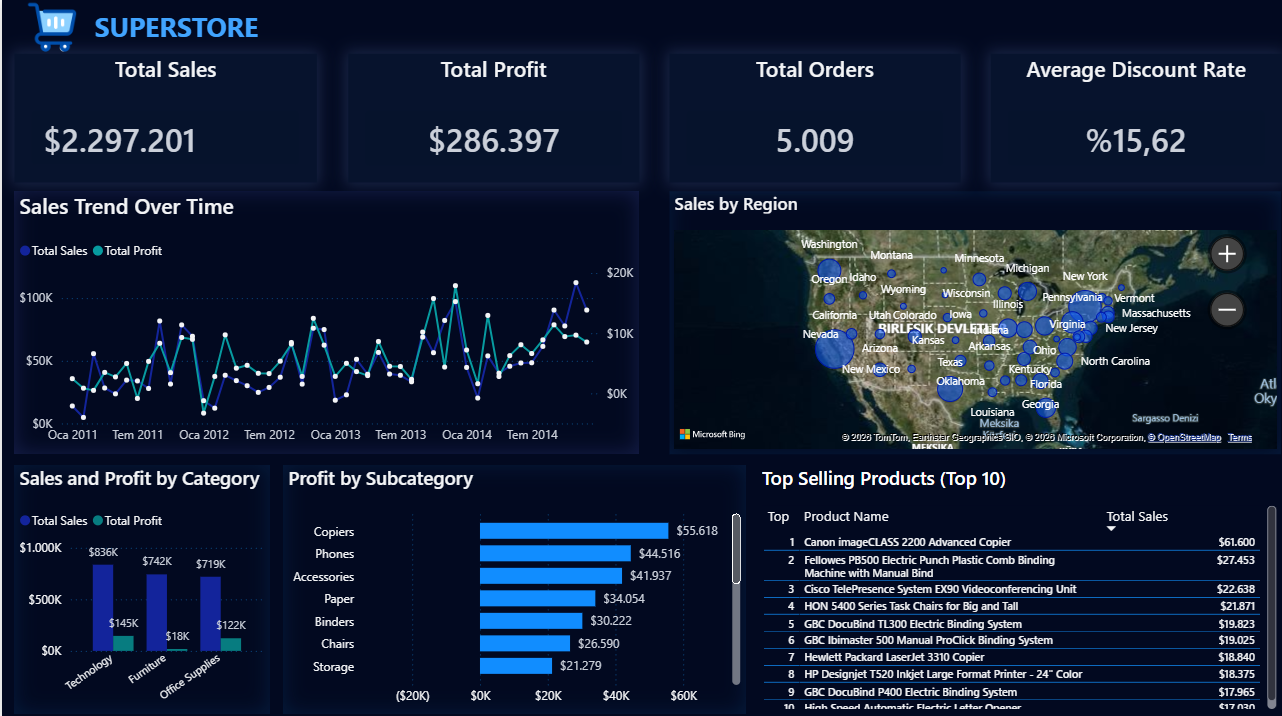

The dashboard page shown, as its layout file describes it:
{"tool":"powerbi","page":{"name":"Page 2","canvas":[1280,720],"ordinal":0},"visuals":[{"type":"cardVisual","title":"Total Sales","fields":{"Data":["Measure.Total Sales"]},"box":[12.5,53.8,302.5,128.8],"z":0},{"type":"cardVisual","title":"Total Profit","fields":{"Data":["Measure.Total Profit"]},"box":[345.7,54,291,129],"z":1000},{"type":"cardVisual","title":"Average Discount Rate","fields":{"Data":["Measure.Avg Discount_rate"]},"box":[989,54,291,129],"z":2000},{"type":"cardVisual","title":"Total Orders","fields":{"Data":["Measure.Total Orders"]},"box":[667.3,54,291,129],"z":3000},{"type":"lineChart","title":"Sales Trend Over Time","fields":{"Y":["Measure.Total Sales"],"Y2":["Measure.Total Profit"],"Category":["cleaned_sales.Order Date.Variation.Date Hierarchy.Year","cleaned_sales.Order Date.Variation.Date Hierarchy.Month"]},"box":[12.2,191.1,624.4,262.2],"z":4000},{"type":"map","title":"Sales by Region","fields":{"Category":["cleaned_sales.State"],"Size":["Measure.Total Sales"]},"box":[667.8,191.1,612.2,262.2],"z":5000},{"type":"clusteredColumnChart","title":"Sales and Profit by Category","fields":{"Category":["cleaned_sales.Category"],"Y":["Measure.Total Sales","Measure.Total Profit"]},"box":[12.5,464.4,255.6,248.9],"z":6000},{"type":"clusteredBarChart","title":"Profit by Subcategory","fields":{"Y":["Measure.Total Profit"],"Category":["cleaned_sales.Sub-Category"]},"box":[280.7,464.4,462.2,248.9],"z":7000},{"type":"tableEx","title":"Top Selling Products (Top 10)","fields":{"Values":["Measure.Top_Orders","cleaned_sales.Product Name","Measure.Total Sales"]},"box":[755.6,464.4,524.4,248.9],"z":8001},{"type":"textbox","box":[88,4,181,45.8],"z":8002},{"type":"image","box":[0,0,101,54],"z":8003}]}

Visuals, with their boxes in screenshot pixels (x1, y1, x2, y2), scaled from the page's 1280x720 canvas onto the 1282x716 screenshot:
"Total Sales" cardVisual: [13,54,315,182]
"Total Profit" cardVisual: [346,54,638,182]
"Average Discount Rate" cardVisual: [991,54,1281,182]
"Total Orders" cardVisual: [668,54,960,182]
"Sales Trend Over Time" lineChart: [12,190,638,451]
"Sales by Region" map: [669,190,1281,451]
"Sales and Profit by Category" clusteredColumnChart: [13,462,269,709]
"Profit by Subcategory" clusteredBarChart: [281,462,744,709]
"Top Selling Products (Top 10)" tableEx: [757,462,1281,709]
textbox: [88,4,269,50]
image: [0,0,101,54]
